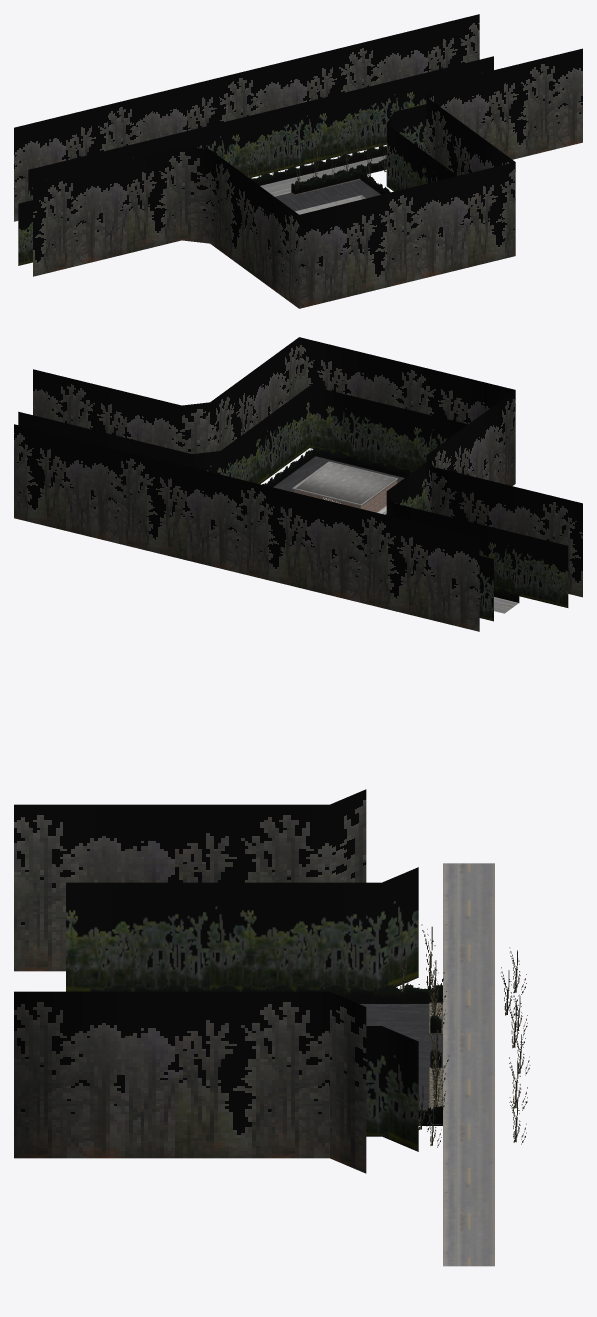
Rendered from lvl1.obj.
3 views of the same model, one above another, from view 1: azimuth 30°, elevation 25°; view 2: azimuth 150°, elevation 25°; view 3: azimuth 270°, elevation 25° (orthographic). The views are drawn at different scales.
Parts seen in each view (by area): view 1: Vegetation_bottom.001_Cube.285, Vegetation_bottom.004_Cube.294, Vegetation_bottom.003_Cube.293, parking_Cube.044, Road_Cube.078, Vegetation_bottom.002_Cube.292; view 2: Vegetation_bottom.001_Cube.285, Vegetation_bottom.004_Cube.294, Shop_VHS.008_Cube.194, Vegetation_bottom.003_Cube.293, parking_Cube.044, Shop_VHS.009_Cube.208; view 3: Vegetation_bottom.001_Cube.285, Vegetation_bottom.004_Cube.294, Road_Cube.078, Vegetation_bottom.003_Cube.293, Vegetation_bottom.002_Cube.292, parking_Cube.044.
Part boxes in pixels (x1,y1,x2,y2): Vegetation_bottom.001_Cube.285: (14, 14, 582, 308); Vegetation_bottom.004_Cube.294: (18, 56, 493, 265); Vegetation_bottom.003_Cube.293: (248, 145, 390, 194); parking_Cube.044: (275, 179, 380, 211); Road_Cube.078: (260, 155, 386, 196); Vegetation_bottom.002_Cube.292: (244, 131, 386, 187); Vegetation_bottom.001_Cube.285: (14, 337, 582, 631); Vegetation_bottom.004_Cube.294: (18, 386, 568, 621); Shop_VHS.008_Cube.194: (292, 461, 398, 505); Vegetation_bottom.003_Cube.293: (262, 446, 519, 602); parking_Cube.044: (273, 456, 404, 514); Shop_VHS.009_Cube.208: (293, 480, 397, 512); Vegetation_bottom.001_Cube.285: (14, 789, 366, 1173); Vegetation_bottom.004_Cube.294: (66, 867, 418, 1151); Road_Cube.078: (443, 863, 494, 1266); Vegetation_bottom.003_Cube.293: (90, 984, 442, 1125); Vegetation_bottom.002_Cube.292: (394, 924, 530, 1147); parking_Cube.044: (359, 1004, 442, 1110).
Bounding box in the file's own units: 3960 × 770 × 2002.
Materials: 44 (42 with a texture image).
